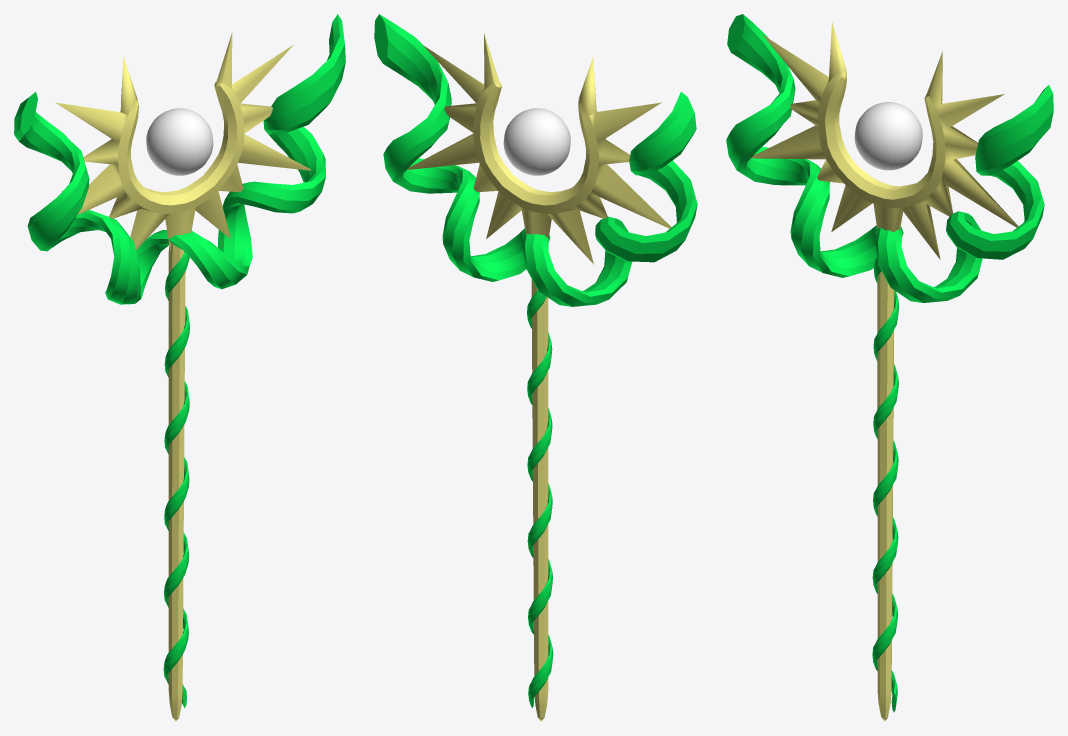
Rendered from wand_holy.obj.
3 views of the same model, side by side, from view 1: azimuth 30°, elevation 25°; view 2: azimuth 150°, elevation 25°; view 3: azimuth 330°, elevation 25° (orthographic).
Size of the model in its own units: 3.32 by 6.69 by 0.6284.
